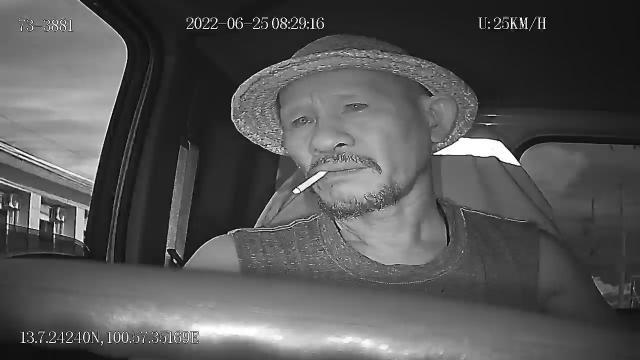SafeDriving: (286, 106, 322, 132), (337, 93, 375, 116)
Smoking: (292, 168, 328, 196)
